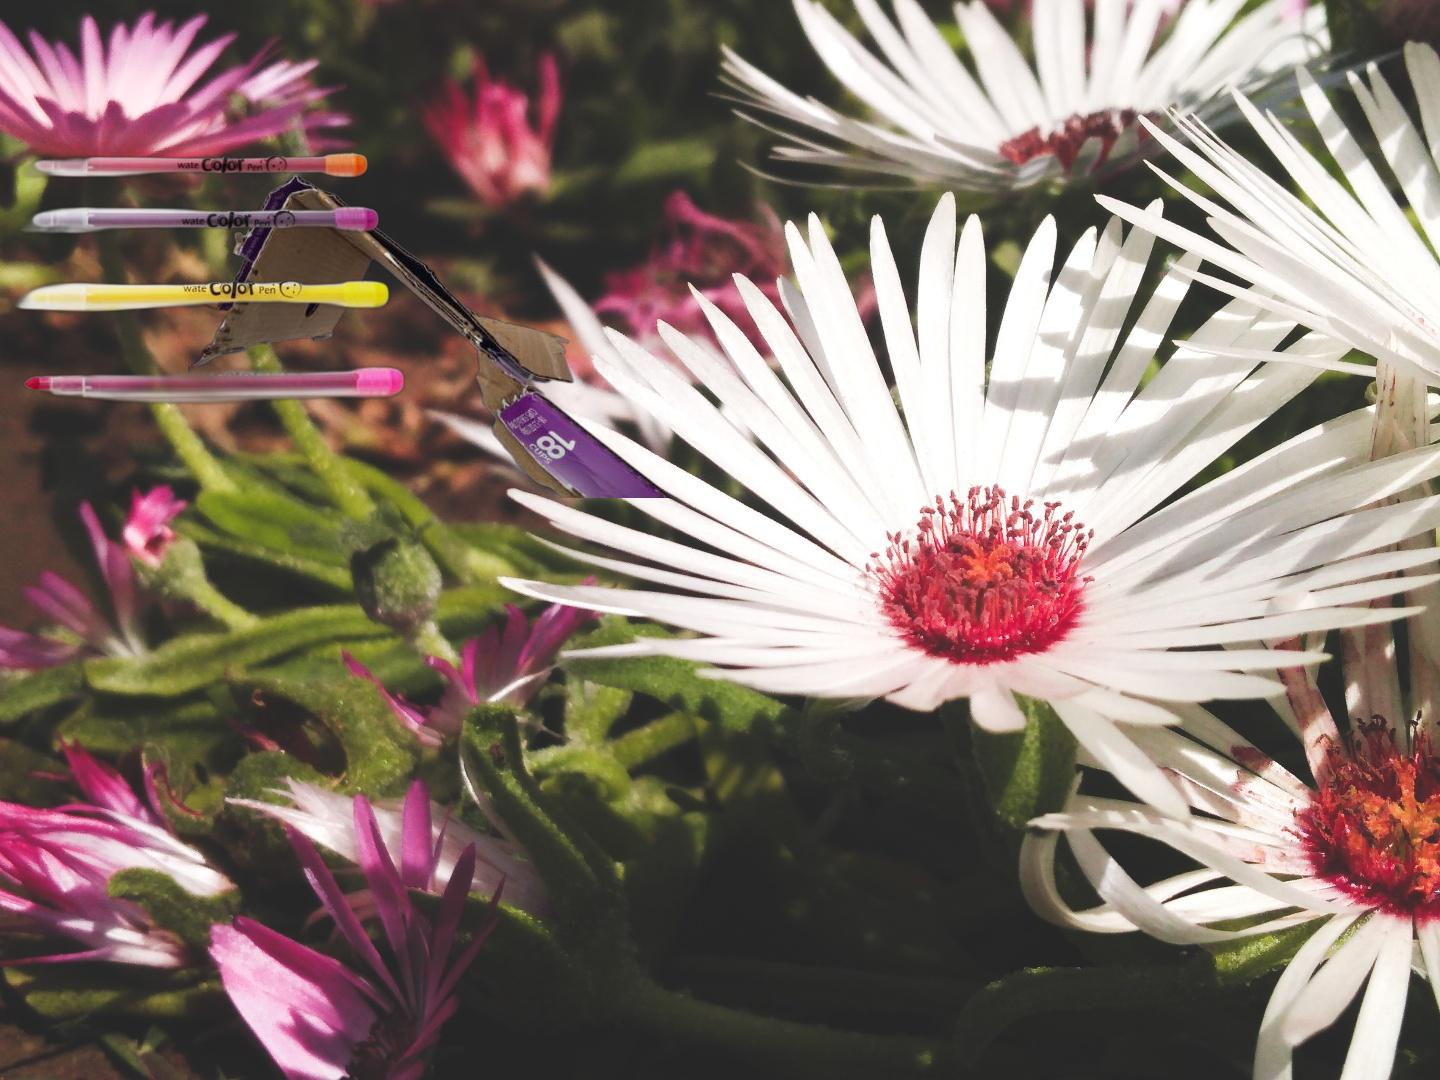penholder: (7, 147, 407, 407)
trashbox-cardboard: (188, 170, 676, 498)
